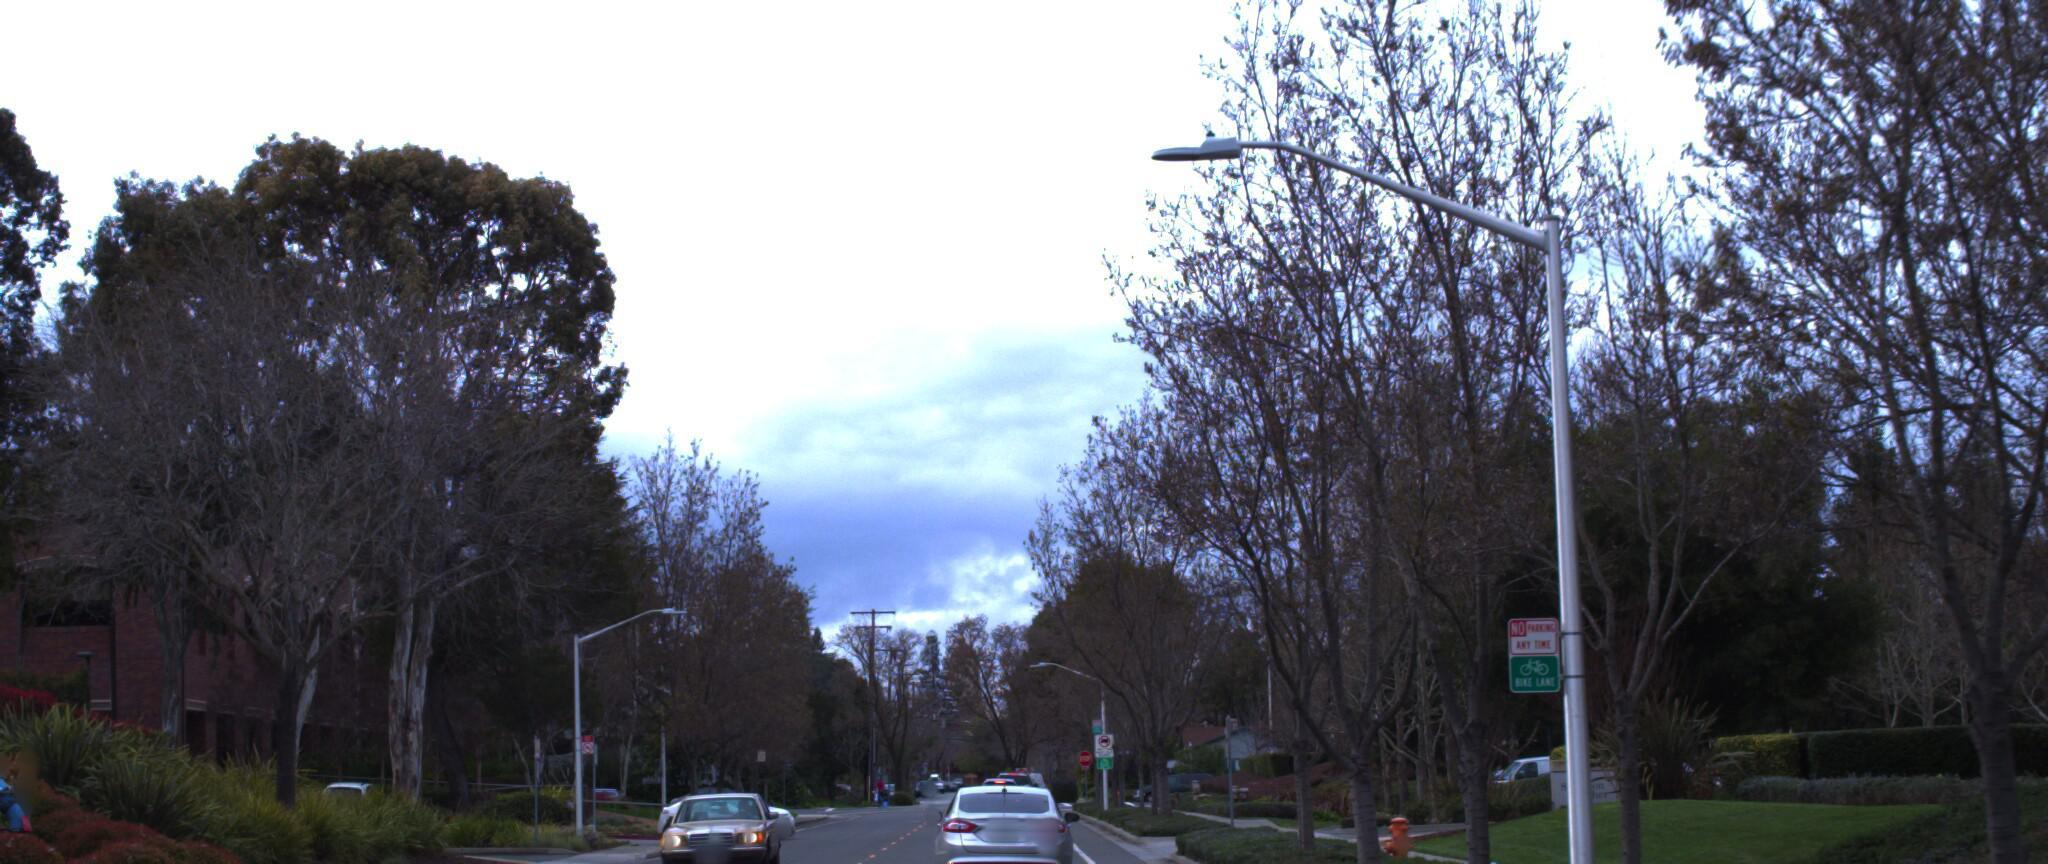car: (908, 764, 1064, 864), (645, 778, 780, 864)
